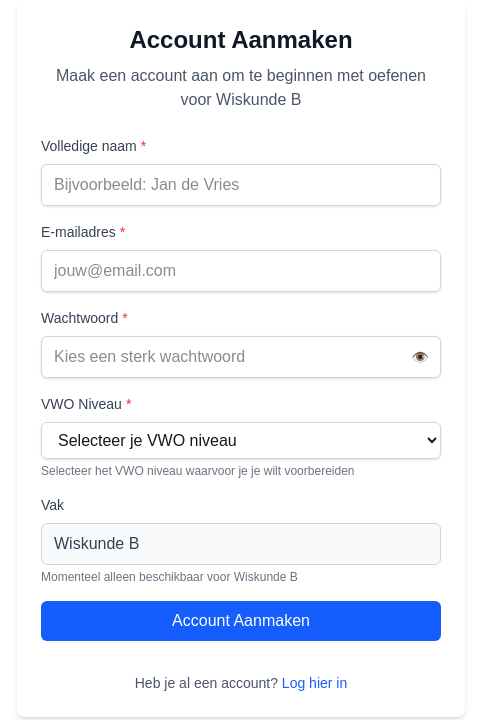
it: RegistrationForm › shows password strength indicator
Type "TestPass123" into the password field labelled "Wachtwoord*" at point(241, 357), box x1=41 y1=336 x2=441 y2=378
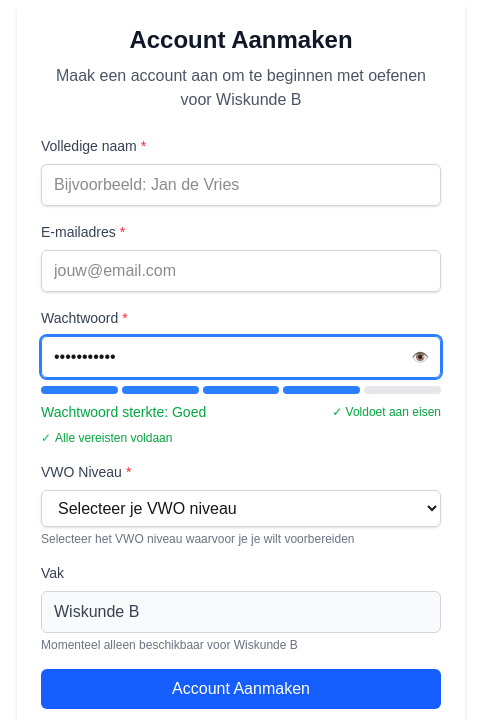
Expected: the text "Wachtwoord sterkte: Goed" is shown, x1=41 y1=402 x2=206 y2=422
